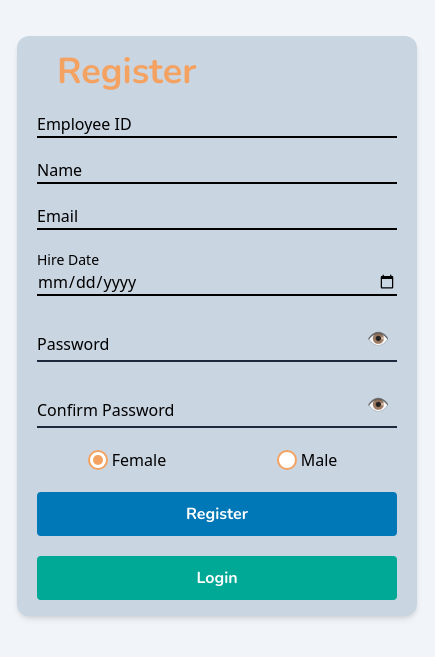
Register Page tests › should display error message for required fields
The image size is (435, 657).
# Submit the form without filling any fields
Click the button "Register".
click(217, 514)  # box top-left (37, 492), bottom-right (397, 536)
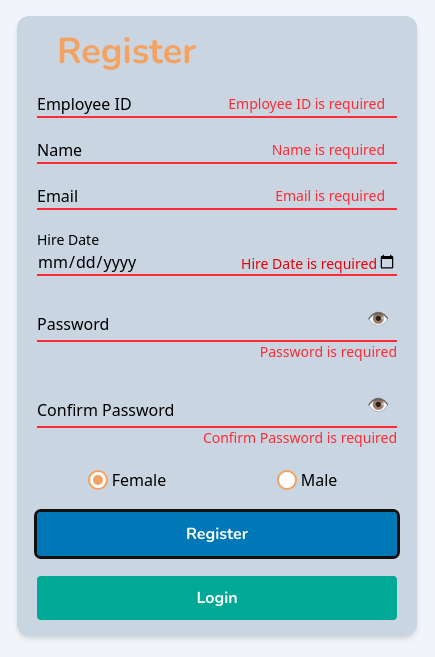
Now the text "Employee ID is required" is shown, box top-left (228, 94), bottom-right (385, 114)
Now the text "Name is required" is shown, box top-left (272, 140), bottom-right (385, 160)
Now the text "Email is required" is shown, box top-left (275, 186), bottom-right (385, 206)
